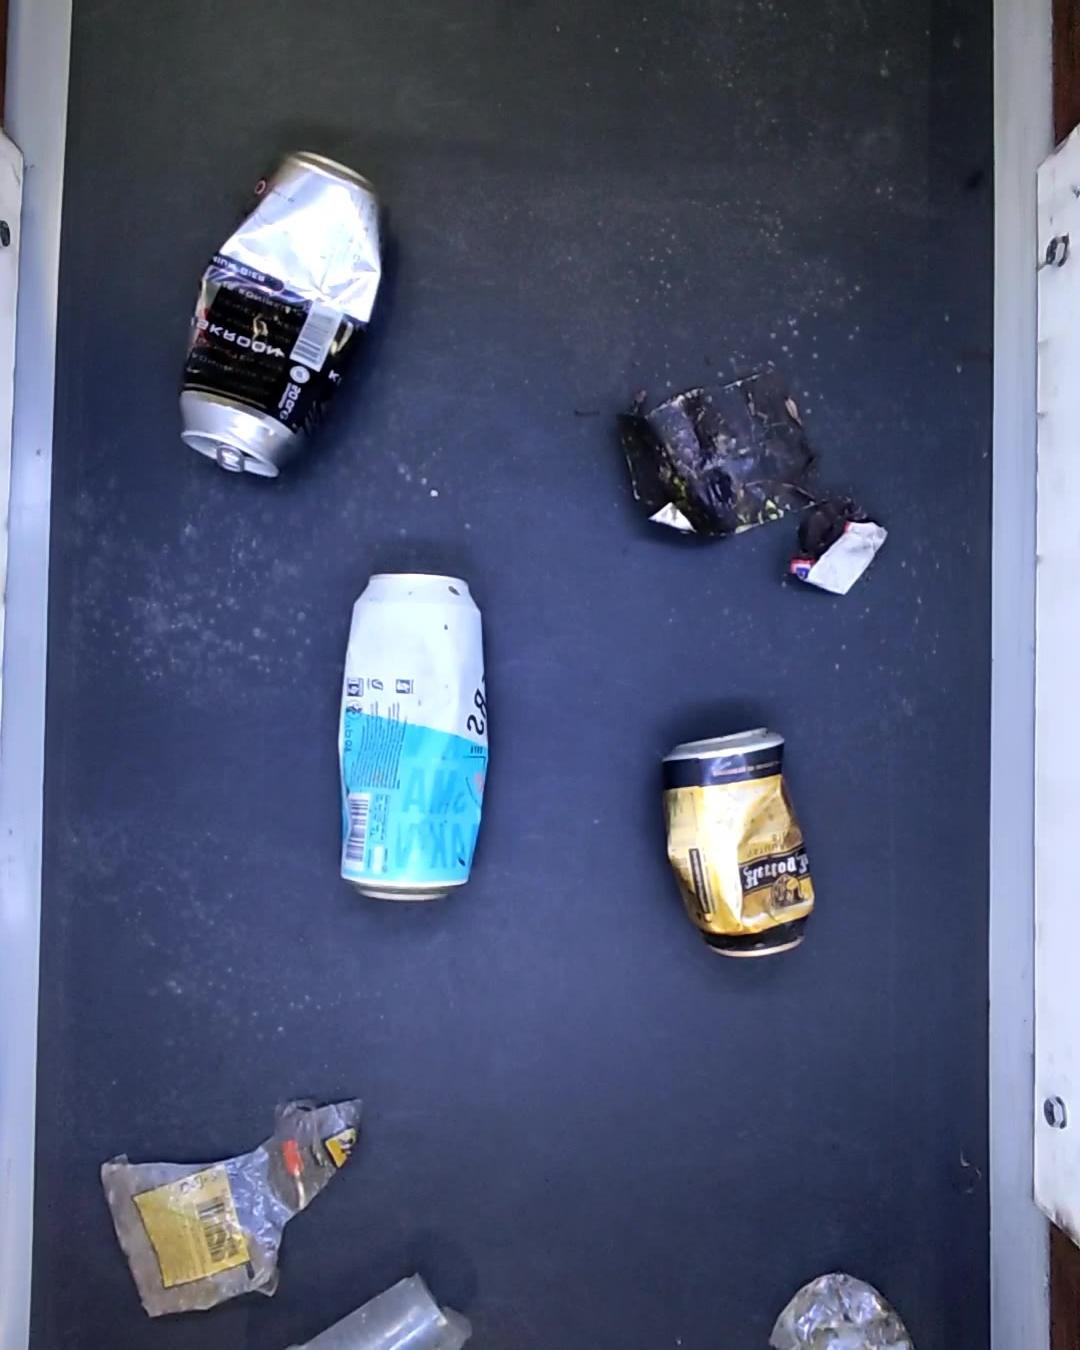Drankblikjes: (185, 151, 387, 478), (334, 570, 487, 904), (663, 728, 821, 965)
Plastic folies of stukken daarvan 2.5- 50 cm: (97, 1097, 367, 1318)
Snoep snack en chips verpakkingen: (790, 496, 889, 596)
